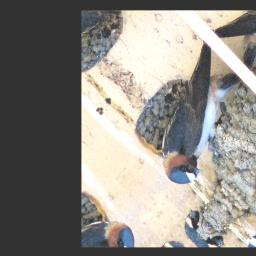Swallow: (122, 39, 256, 195)
